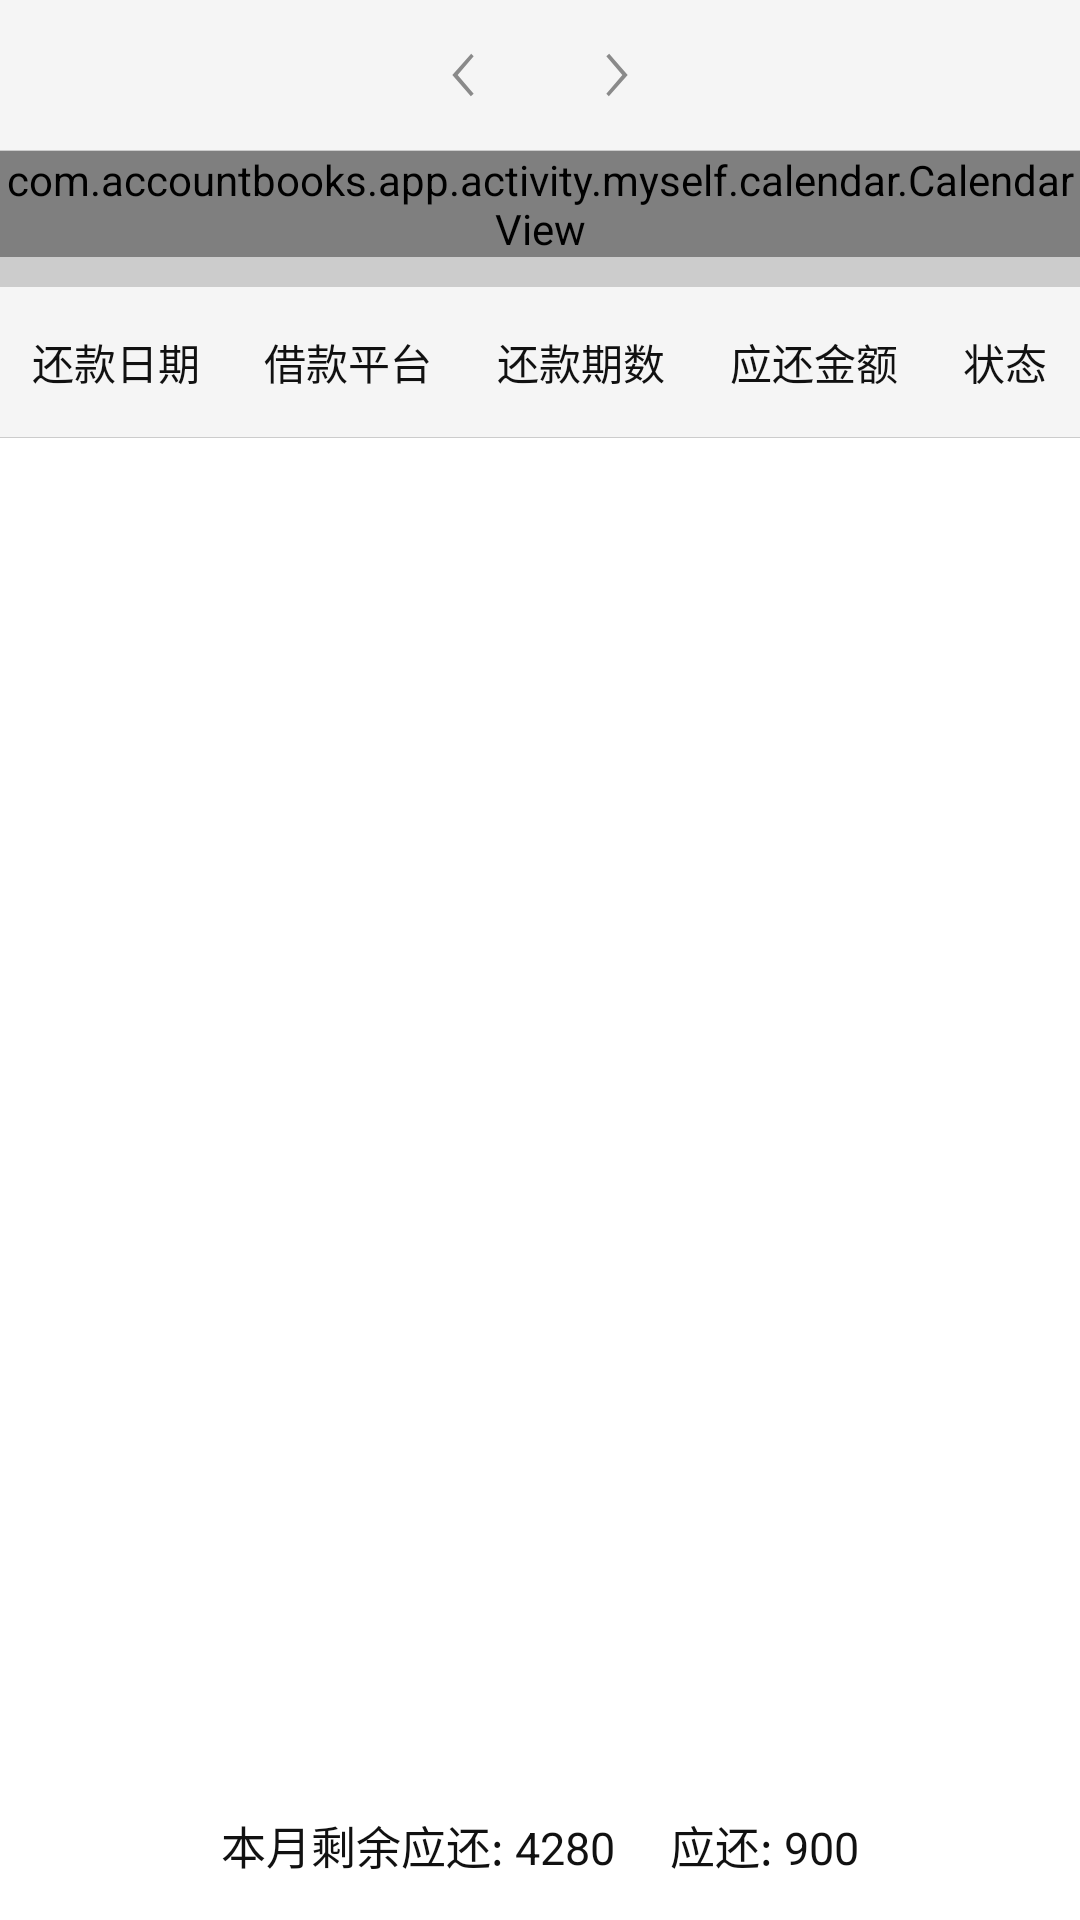

Icon bounding boxes for this 1080px x 1920px phone screenshot, format region(x1, y1, x2, y2):
all to left: region(452, 54, 474, 96)
all to right: region(606, 54, 628, 96)
